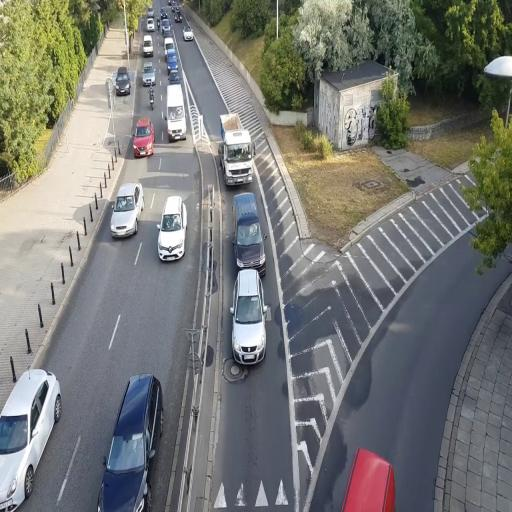vehicle: (98, 373, 164, 512), (0, 366, 62, 509), (230, 269, 268, 366), (234, 192, 266, 277), (219, 112, 254, 188), (234, 192, 266, 274), (157, 194, 187, 264), (110, 183, 143, 239), (166, 81, 186, 142), (134, 116, 154, 158), (114, 67, 131, 95), (141, 61, 156, 86), (182, 26, 194, 42)
